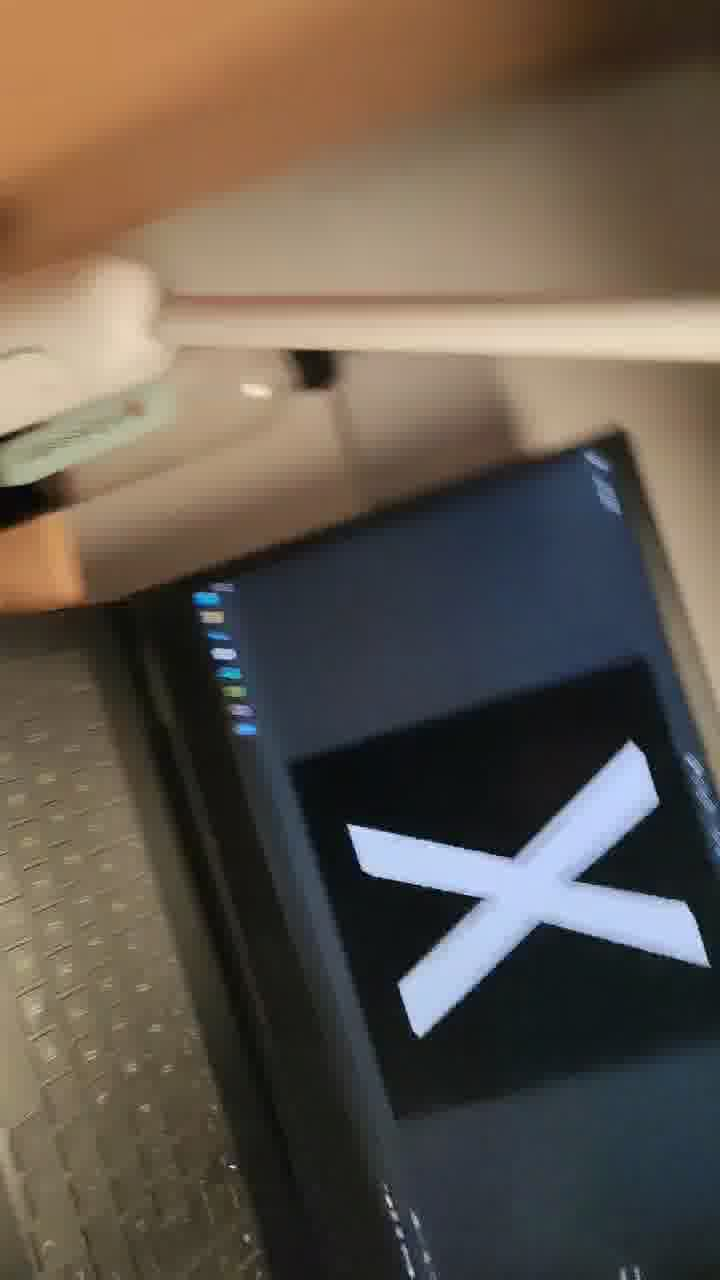X: (304, 623, 712, 1054)
